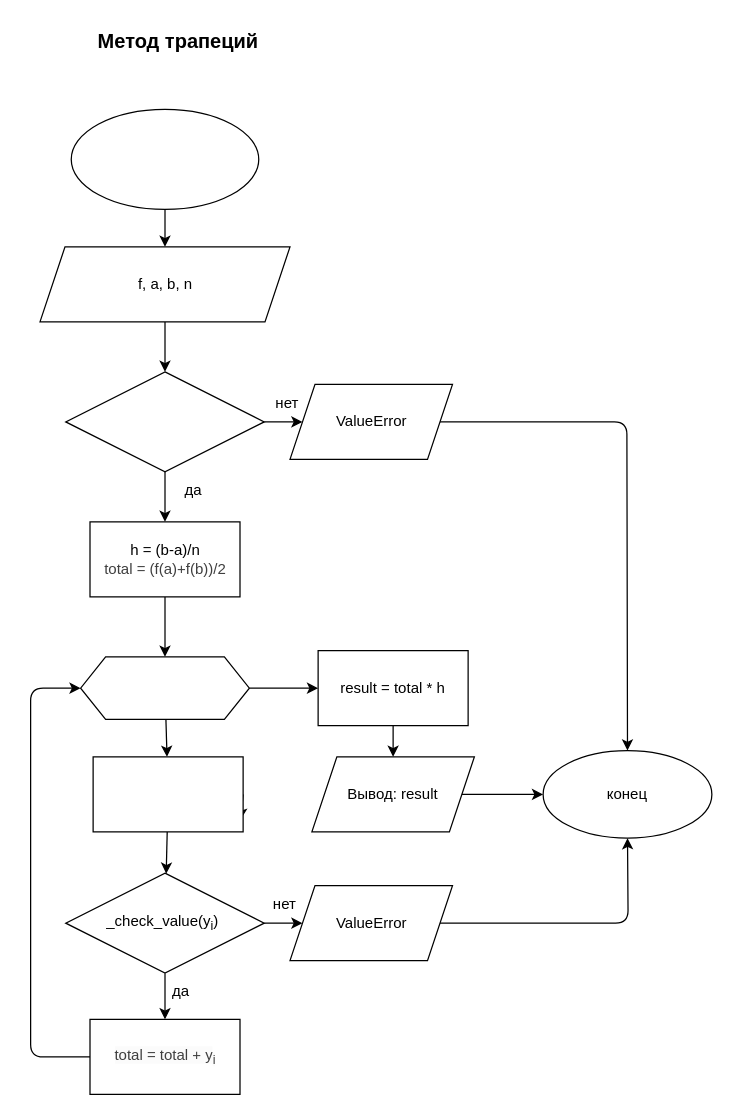
This 734x1116 diagram has some shape labels left out. The centre of each missing label's shape, as x and y in pixels:
_check_value(f(a)) || _check_value(f(b) ): (x=164, y=421)
i=1, n: (x=164, y=687)
y i = f(a+i*h): (x=167, y=794)
начало: (x=164, y=158)
